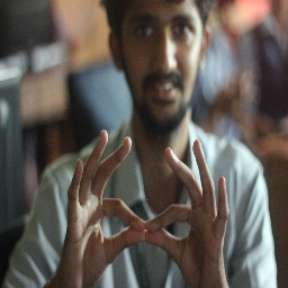B: (89, 168, 199, 277)
